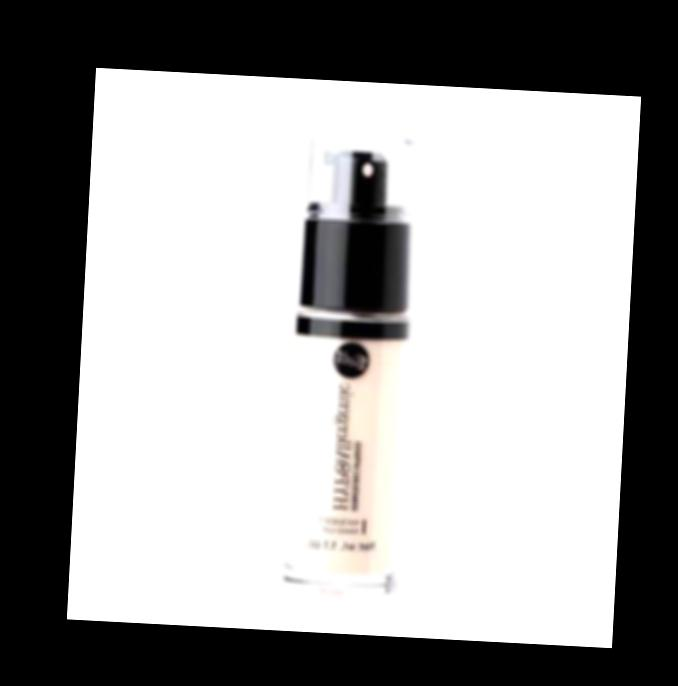cosmetic: (281, 132, 420, 598)
